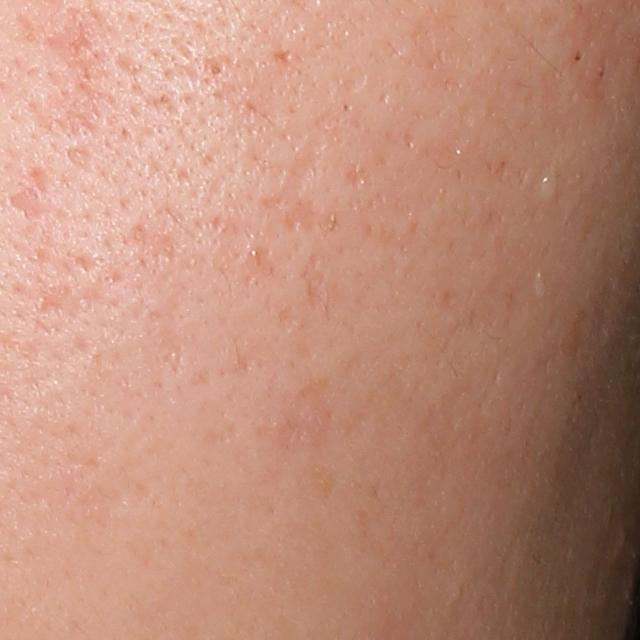atrophic_scar: (259, 109, 341, 240), (298, 249, 331, 315), (7, 186, 55, 223), (64, 144, 99, 176), (350, 161, 371, 186)
